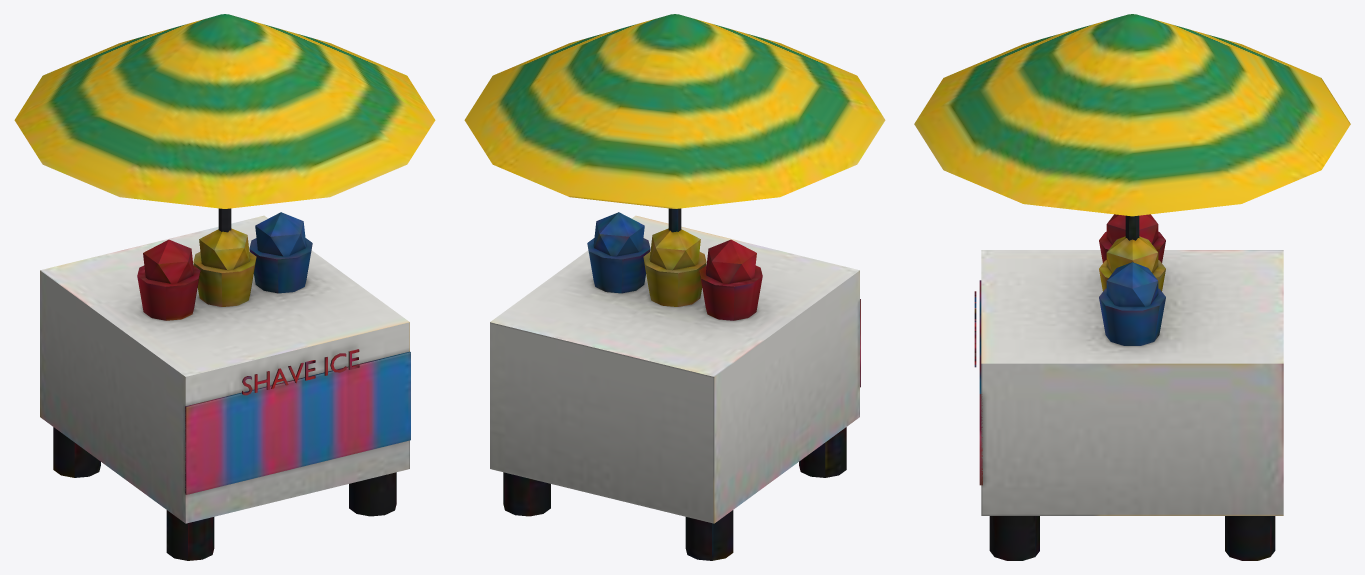
The model's file is carrito_raspado.glb.
3 renders of one model, left to right at view 1: azimuth 30°, elevation 25°; view 2: azimuth 150°, elevation 25°; view 3: azimuth 270°, elevation 25°, orthographic. The views are drawn at different scales.
Visible parts, largest first — view 1: carrito_raspado; view 2: carrito_raspado; view 3: carrito_raspado.
Boxes of the visible parts, x1=… form: carrito_raspado: x1=14, y1=14, x2=435, y2=560; carrito_raspado: x1=464, y1=14, x2=885, y2=560; carrito_raspado: x1=914, y1=14, x2=1350, y2=560.
Size of the model in its own units: 2.6 by 3.2 by 2.6.
Materials: 1 (1 with a texture image).
